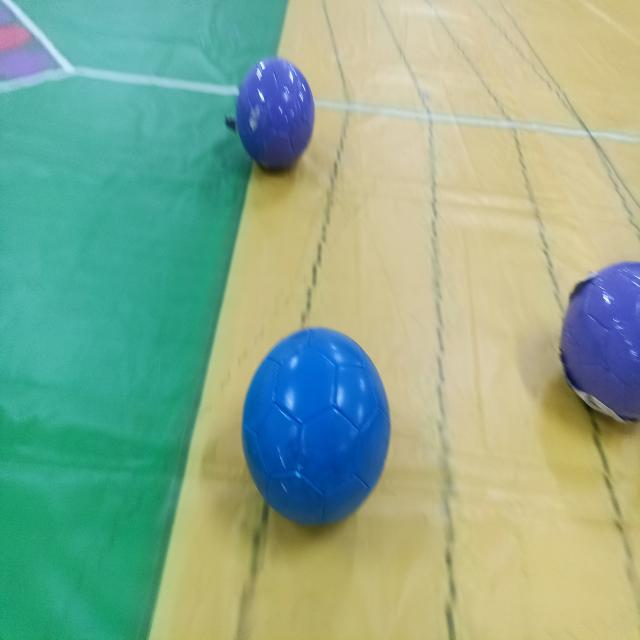blue_ball: (235, 319, 395, 536)
purple_ball: (559, 255, 640, 431), (234, 52, 319, 179)
